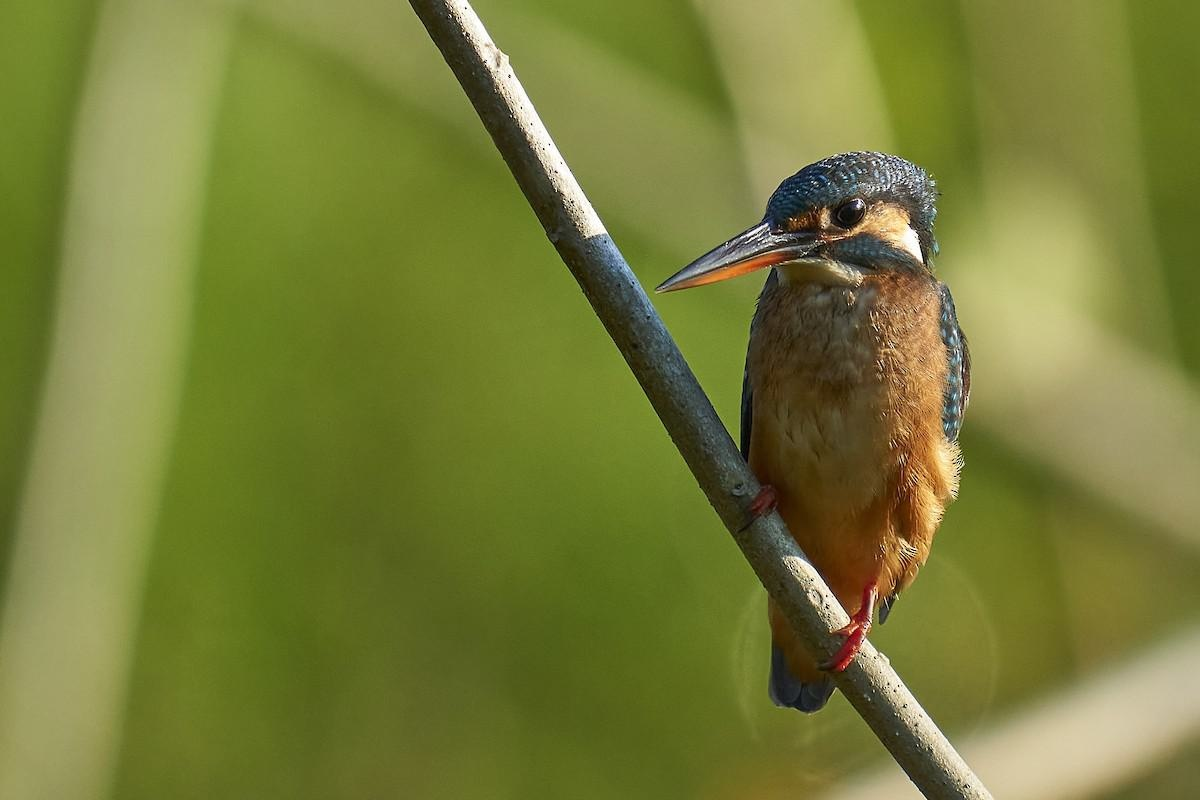kingfisher: (646, 141, 994, 713)
